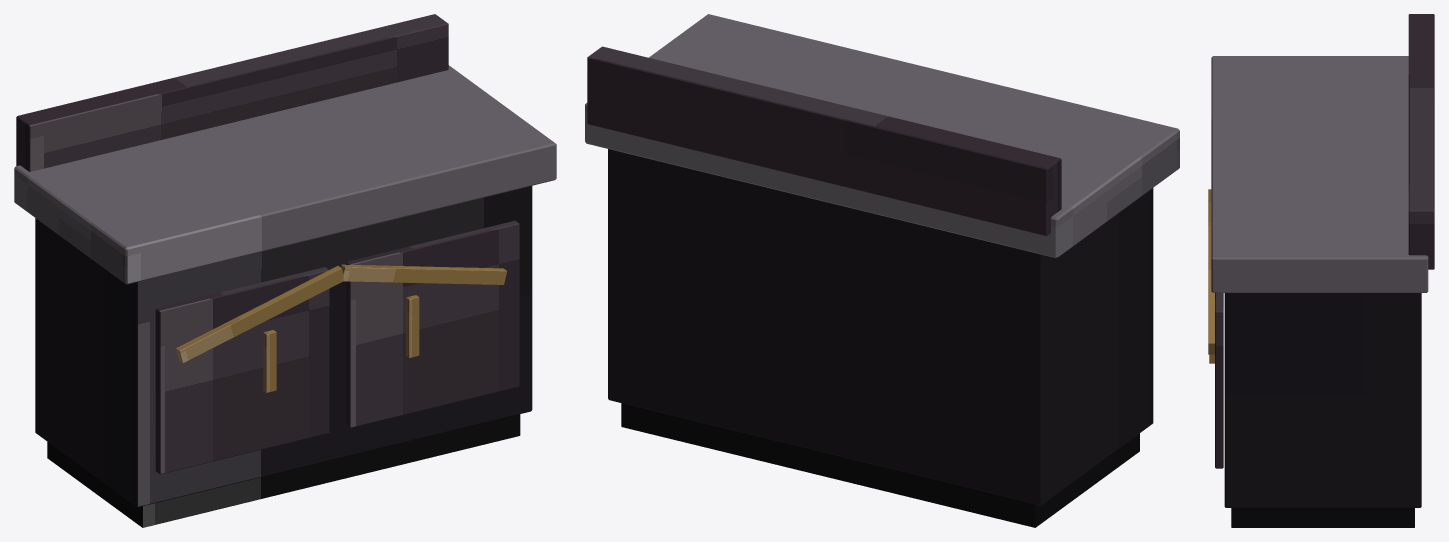
The model's file is gothic_kitchen_counter.glb.
3 renders of one model, left to right at view 1: azimuth 30°, elevation 25°; view 2: azimuth 150°, elevation 25°; view 3: azimuth 270°, elevation 25°, orthographic. The views are drawn at different scales.
Parts seen in each view (by area): view 1: Worktop, CounterBody, CabinetDoor_1, CabinetDoor_2, TopBacksplash, CounterPlinth, GothicCabinetArchLeft, GothicCabinetArchRight, CabinetHandle_1, CabinetHandle_2; view 2: CounterBody, Worktop, TopBacksplash, CounterPlinth; view 3: Worktop, CounterBody, TopBacksplash, CounterPlinth, CabinetDoor_2, GothicCabinetArchRight.
Part boxes in pixels (x1,y1,x2,y2): Worktop: [14, 65, 556, 284]; CounterBody: [35, 186, 532, 507]; CabinetDoor_1: [155, 267, 329, 474]; CabinetDoor_2: [346, 220, 519, 427]; TopBacksplash: [16, 14, 448, 171]; CounterPlinth: [47, 414, 520, 527]; GothicCabinetArchLeft: [176, 266, 343, 363]; GothicCabinetArchRight: [341, 264, 507, 285]; CabinetHandle_1: [263, 330, 276, 392]; CabinetHandle_2: [406, 295, 419, 357]; CounterBody: [608, 149, 1153, 505]; Worktop: [585, 14, 1179, 258]; TopBacksplash: [587, 46, 1061, 236]; CounterPlinth: [621, 403, 1139, 527]; Worktop: [1211, 56, 1428, 292]; CounterBody: [1224, 293, 1421, 507]; TopBacksplash: [1408, 14, 1434, 269]; CounterPlinth: [1231, 508, 1414, 527]; CabinetDoor_2: [1215, 293, 1223, 468]; GothicCabinetArchRight: [1208, 225, 1214, 354].
Size of the model in its own units: 1.46 by 1.1 by 0.69.
Materials: 1 (1 with a texture image).
